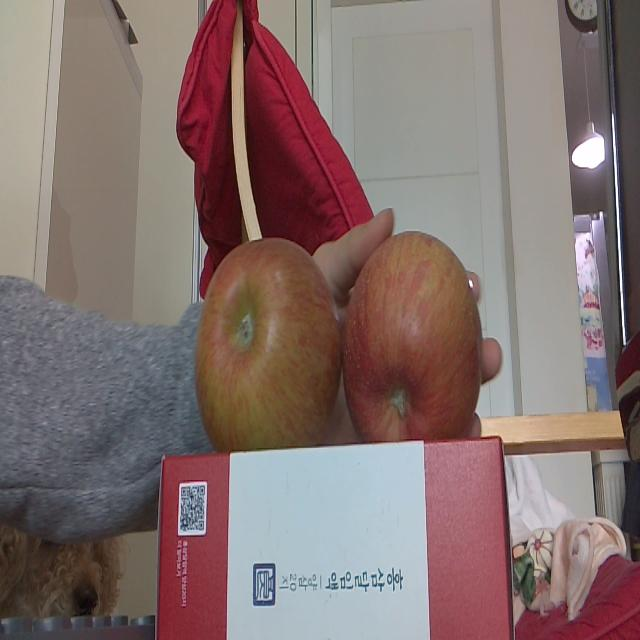apple: (195, 236, 339, 449), (342, 228, 482, 444)
